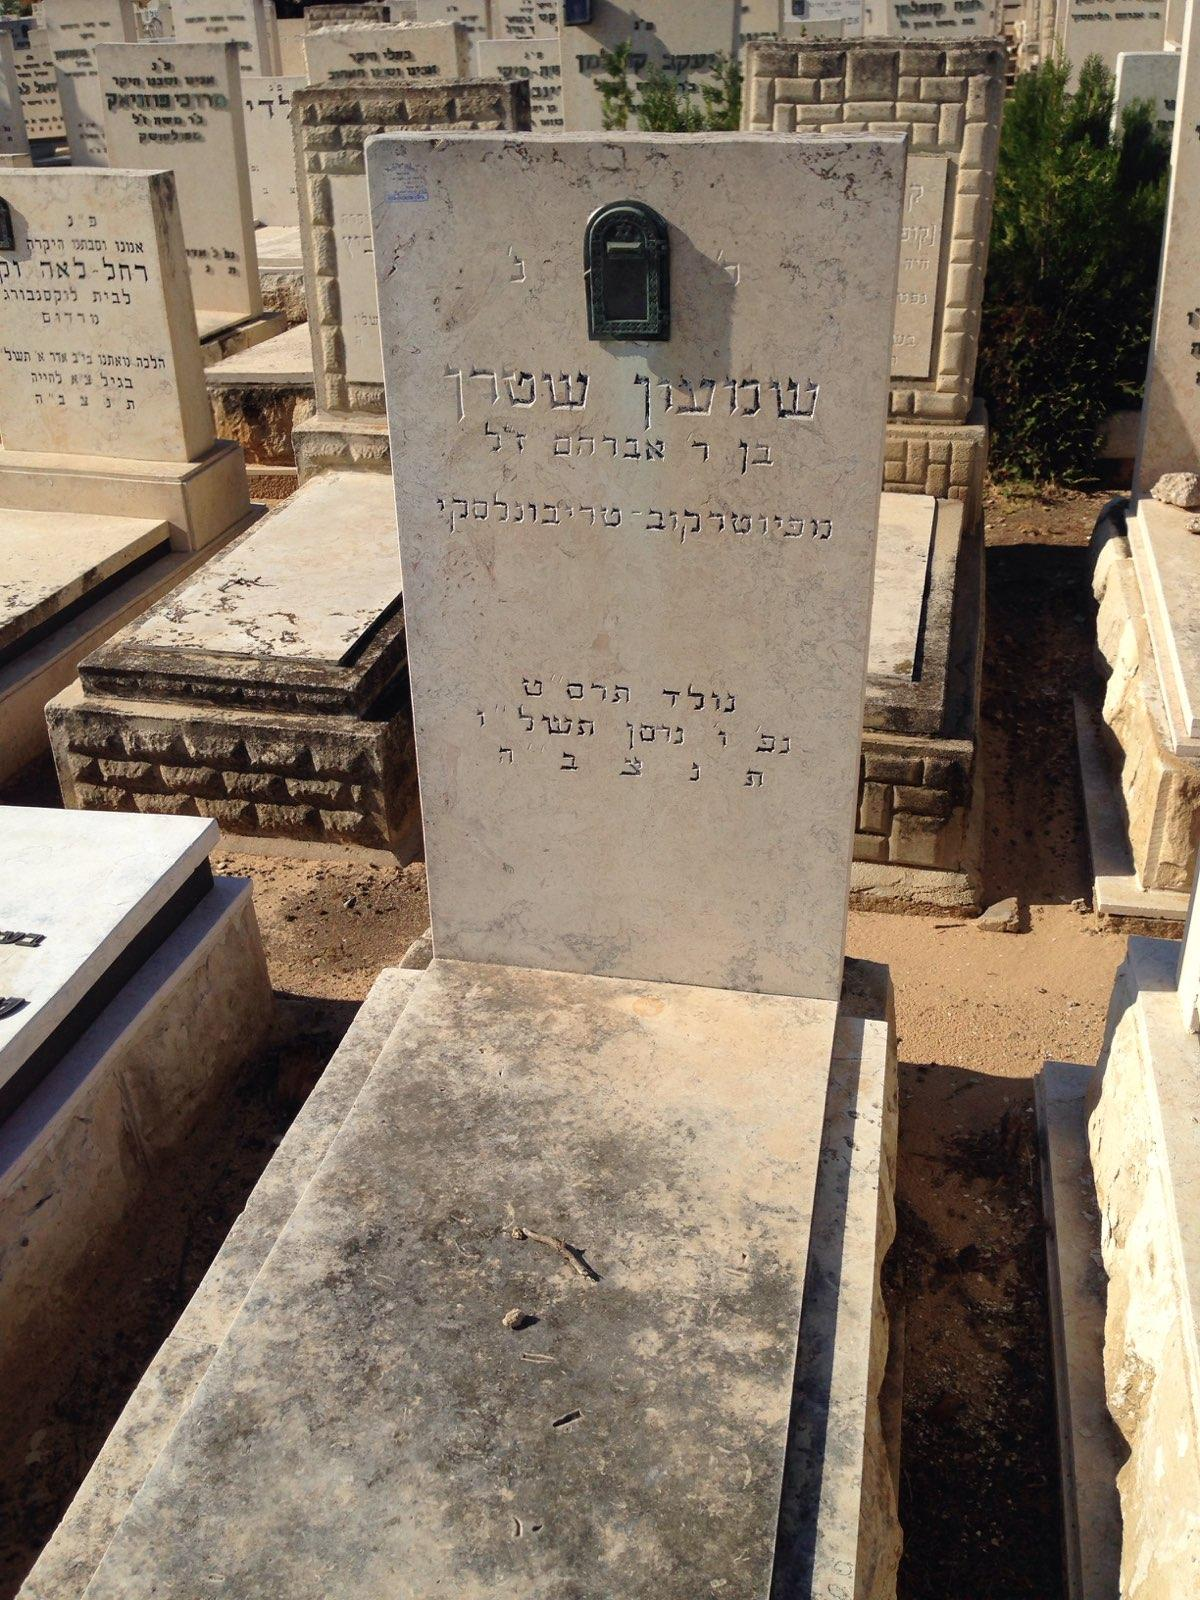vault: (72, 13, 945, 1600)
